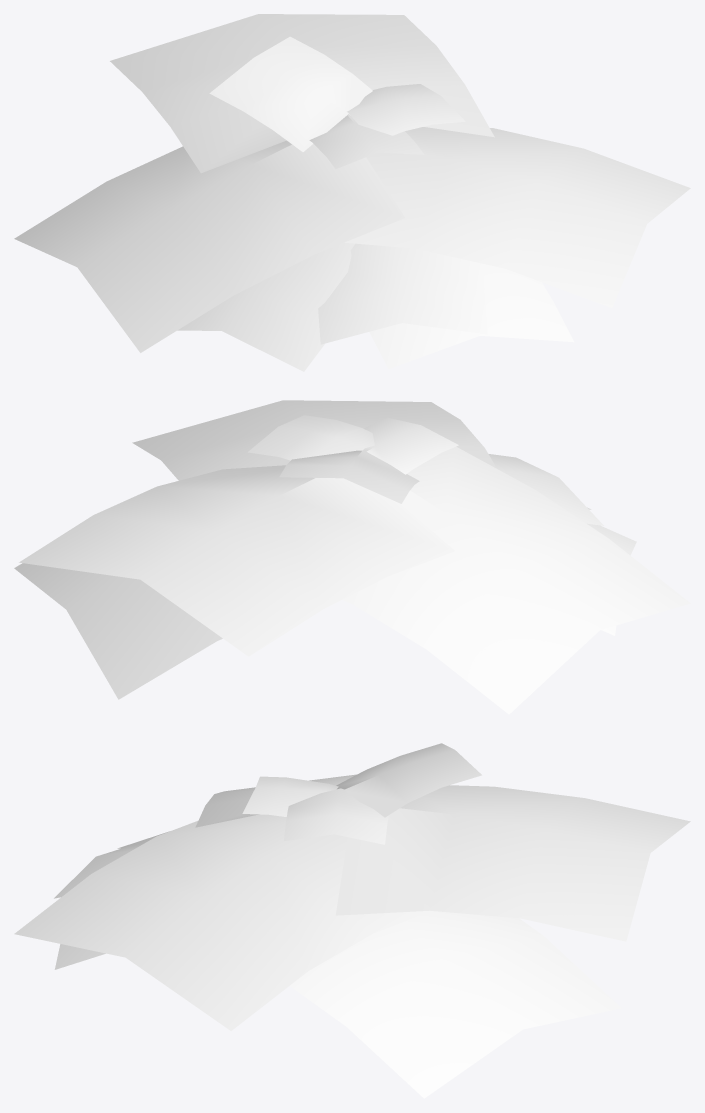
Rendered from Bush_02.fbx.
3 views of the same model, one above another, from view 1: azimuth 30°, elevation 25°; view 2: azimuth 150°, elevation 25°; view 3: azimuth 270°, elevation 25° (orthographic).
Visible parts, largest first — view 1: Bush_02; view 2: Bush_02; view 3: Bush_02.
Part boxes in pixels (<box>): Bush_02: <box>14,14,690,371</box>; Bush_02: <box>14,400,690,714</box>; Bush_02: <box>14,743,690,1098</box>.
Bounding box in the file's own units: 214 × 68.9 × 221.
